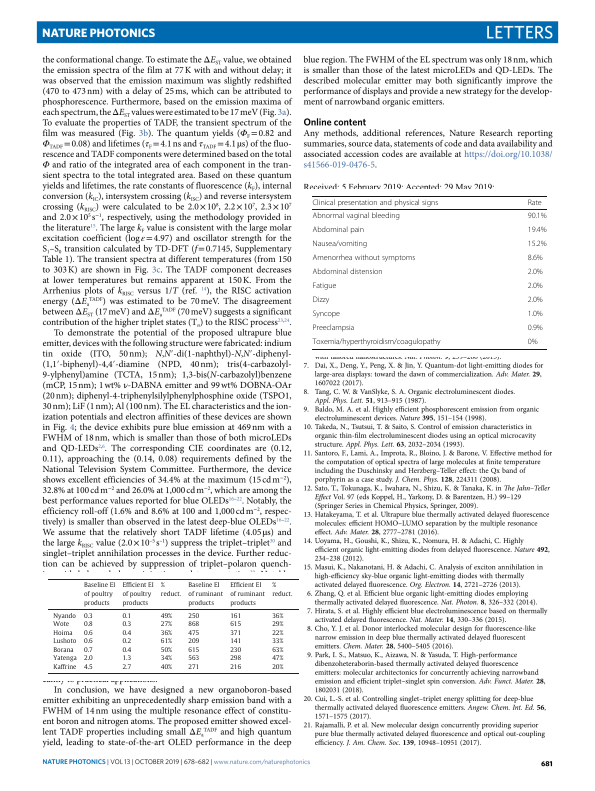borderless: (311, 194, 547, 349), (47, 577, 299, 673)
cell: (311, 337, 441, 347), (312, 198, 439, 207), (312, 253, 416, 263), (187, 582, 224, 607), (229, 582, 266, 607), (312, 211, 401, 221), (83, 582, 116, 607), (122, 582, 155, 607), (312, 267, 384, 277), (312, 239, 368, 249), (312, 225, 365, 235), (312, 323, 355, 333), (271, 582, 294, 598), (160, 582, 182, 598), (312, 309, 341, 319), (312, 281, 337, 291), (52, 663, 78, 672), (52, 637, 77, 646), (52, 655, 78, 663), (52, 612, 77, 620), (527, 211, 547, 221), (527, 225, 547, 235), (527, 239, 547, 249), (52, 646, 75, 654), (312, 295, 330, 305), (52, 629, 74, 637), (527, 253, 544, 263), (527, 267, 544, 277), (527, 281, 544, 291), (527, 295, 544, 305), (527, 309, 544, 319), (527, 323, 544, 333), (52, 620, 70, 629), (527, 198, 543, 207), (160, 620, 173, 629), (187, 620, 200, 629), (229, 620, 242, 629), (271, 620, 284, 629), (160, 637, 173, 646), (187, 637, 200, 646), (229, 637, 242, 646), (271, 637, 284, 646), (160, 663, 173, 672), (187, 663, 200, 672), (229, 663, 242, 672), (271, 663, 284, 672), (527, 337, 538, 347), (160, 612, 173, 620), (187, 612, 200, 620), (229, 612, 242, 620), (271, 612, 284, 620), (160, 629, 173, 637), (187, 629, 200, 637), (229, 629, 242, 637), (271, 629, 284, 637), (160, 646, 173, 654), (187, 646, 200, 654), (229, 646, 242, 654), (271, 646, 284, 654), (160, 655, 173, 663), (187, 655, 200, 663), (229, 655, 242, 663), (271, 655, 284, 663), (83, 620, 94, 629), (83, 637, 94, 646), (83, 663, 94, 672), (122, 620, 132, 629), (122, 637, 132, 646), (122, 663, 132, 672), (83, 612, 94, 620), (83, 629, 94, 637), (83, 646, 94, 654), (83, 655, 94, 663), (122, 612, 132, 620), (122, 629, 132, 637), (122, 646, 132, 654), (122, 655, 132, 663)
